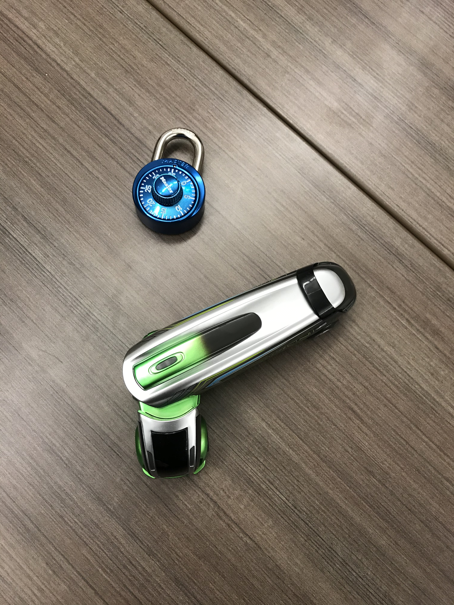Freewheel: (123, 262, 359, 477)
